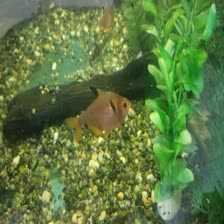Transparente: (61, 85, 136, 145)
